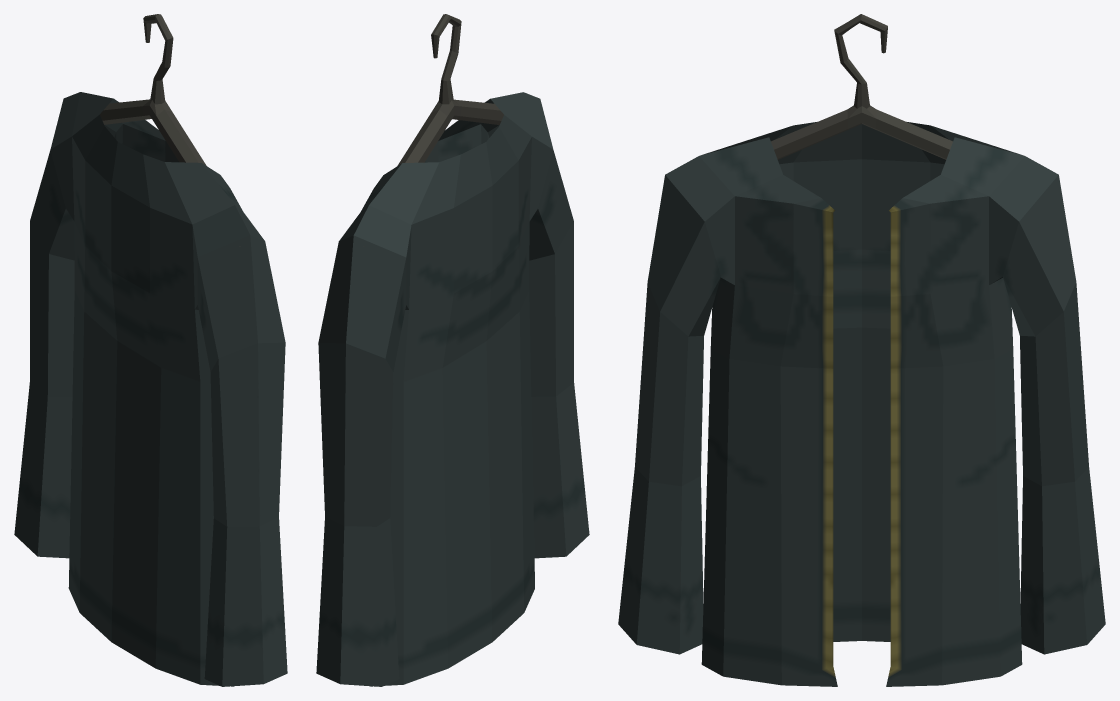
Rendered from coat_open.fbx.
3 renders of one model, left to right at view 1: azimuth 30°, elevation 25°; view 2: azimuth 150°, elevation 25°; view 3: azimuth 270°, elevation 25°, orthographic. The views are drawn at different scales.
Visible parts, largest first — view 1: jacket_closed.001; view 2: jacket_closed.001; view 3: jacket_closed.001.
Part boxes in pixels (x1,y1,x2,y2): jacket_closed.001: (14, 14, 287, 686); jacket_closed.001: (316, 14, 589, 686); jacket_closed.001: (618, 14, 1105, 686).
Bounding box in the file's own units: 304 × 69.7 × 448.
